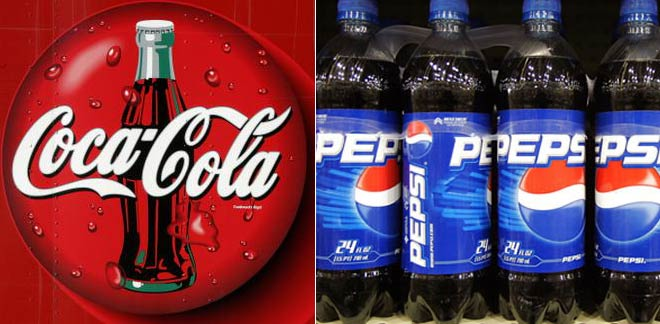pepsi: (518, 148, 586, 242), (521, 148, 586, 242), (595, 153, 658, 243), (354, 157, 402, 236), (356, 157, 402, 236), (401, 121, 433, 157)
